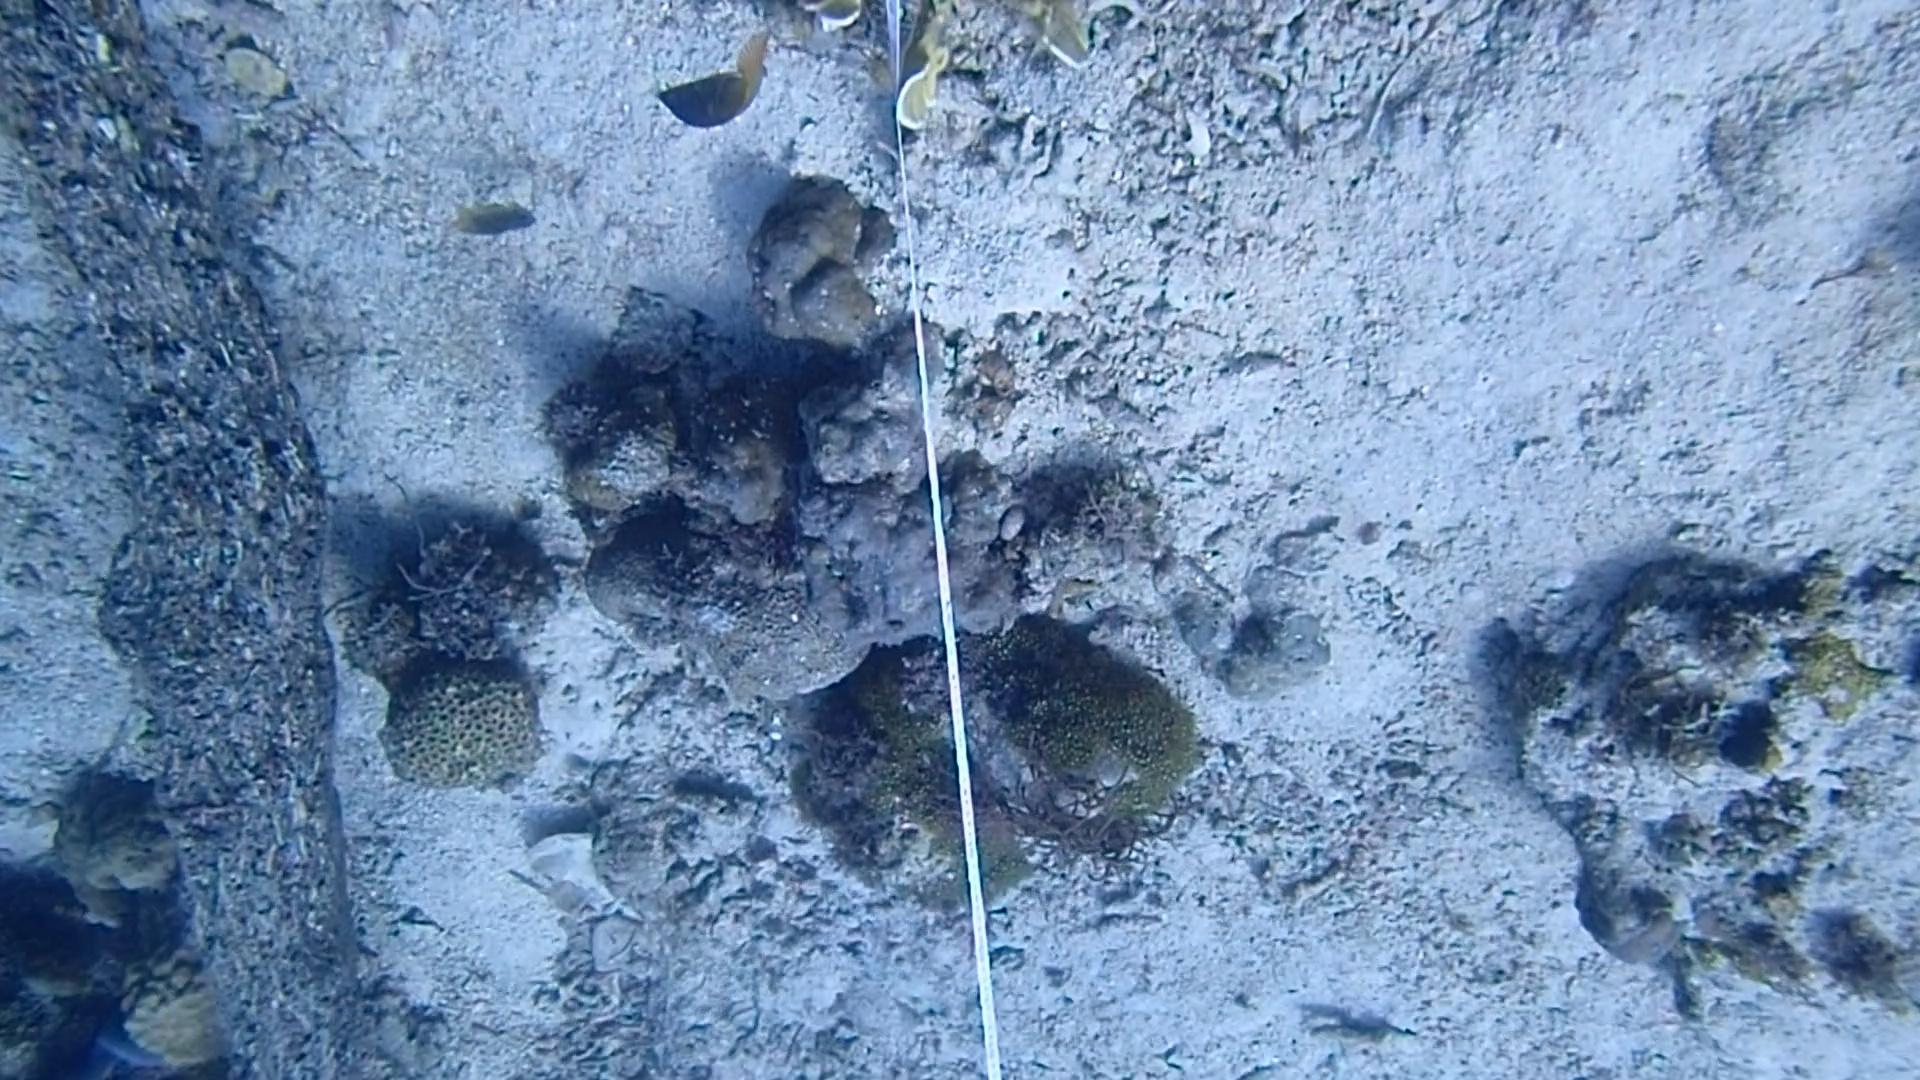Light Fish: (431, 182, 550, 244)
Yellow-Blue Fish: (651, 26, 795, 141)
